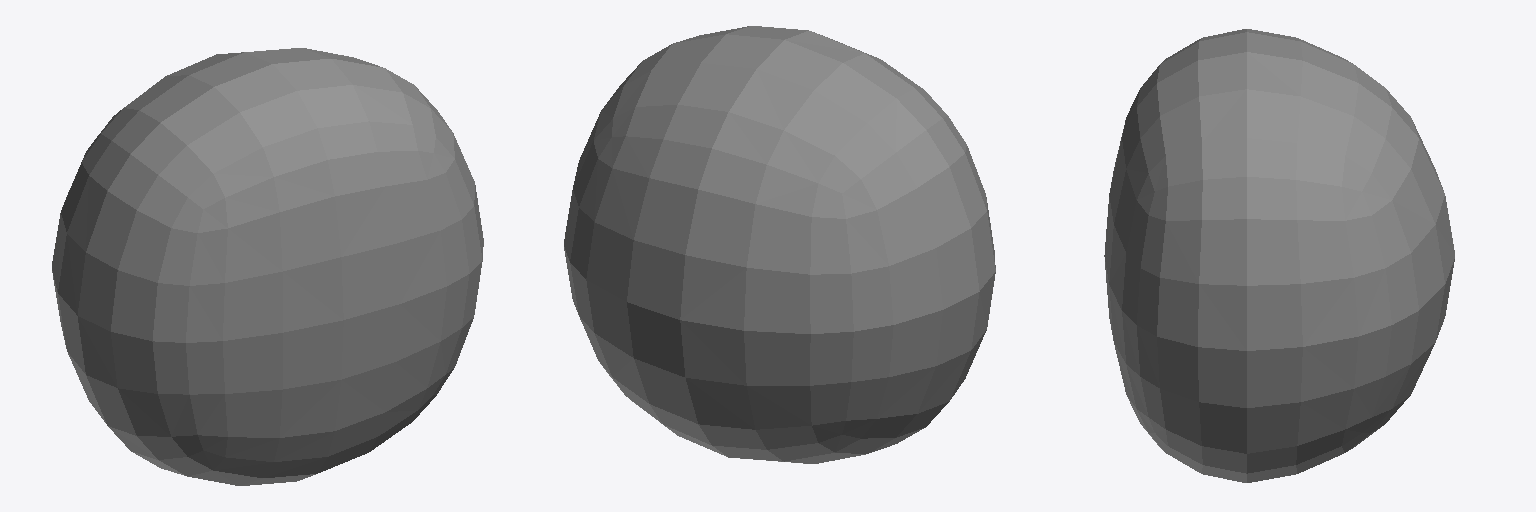
Rendered from MeltIce001.obj.
3 renders of one model, left to right at view 1: azimuth 30°, elevation 25°; view 2: azimuth 150°, elevation 25°; view 3: azimuth 270°, elevation 25°, orthographic.
Visible parts, largest first — view 1: pCube24__MeltIce00; view 2: pCube24__MeltIce00; view 3: pCube24__MeltIce00.
Part boxes in pixels (x1,y1,x2,y2): pCube24__MeltIce00: (52, 48, 483, 485); pCube24__MeltIce00: (564, 26, 995, 463); pCube24__MeltIce00: (1104, 29, 1454, 482).
Size of the model in its own units: 264 by 264 by 206.